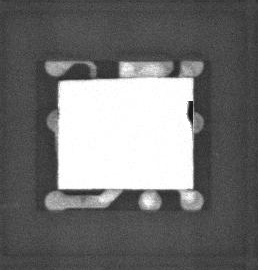DIE_BROKEN: (185, 98, 195, 130)
